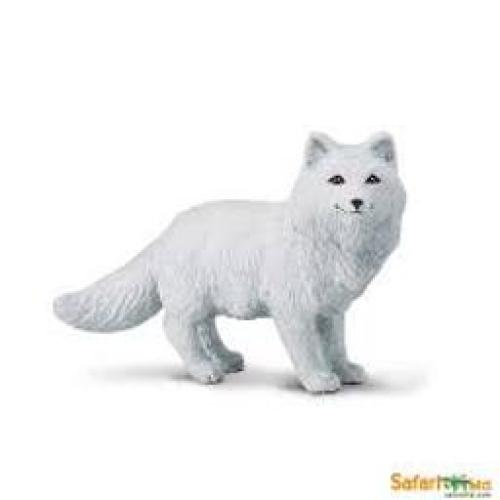arctic_fox-endangered: (70, 128, 408, 392)
